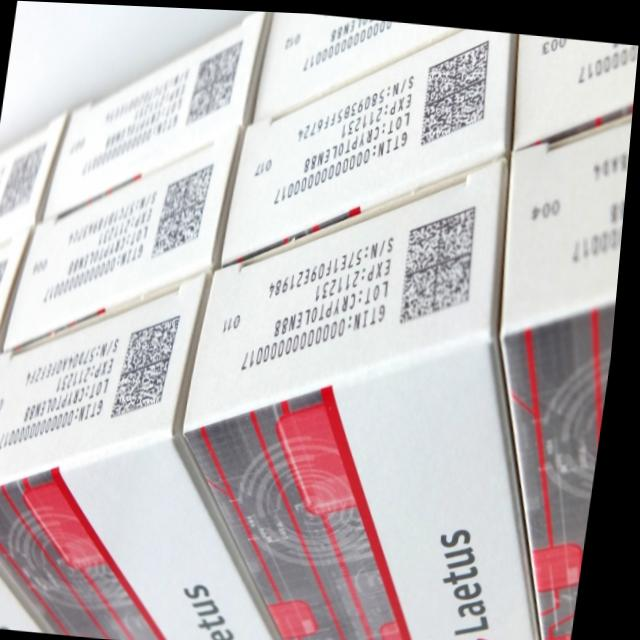datamatrix: (397, 184, 492, 341), (413, 21, 509, 171), (114, 289, 193, 437), (149, 144, 224, 286), (181, 25, 249, 134), (1, 124, 57, 229), (1, 241, 20, 348)
